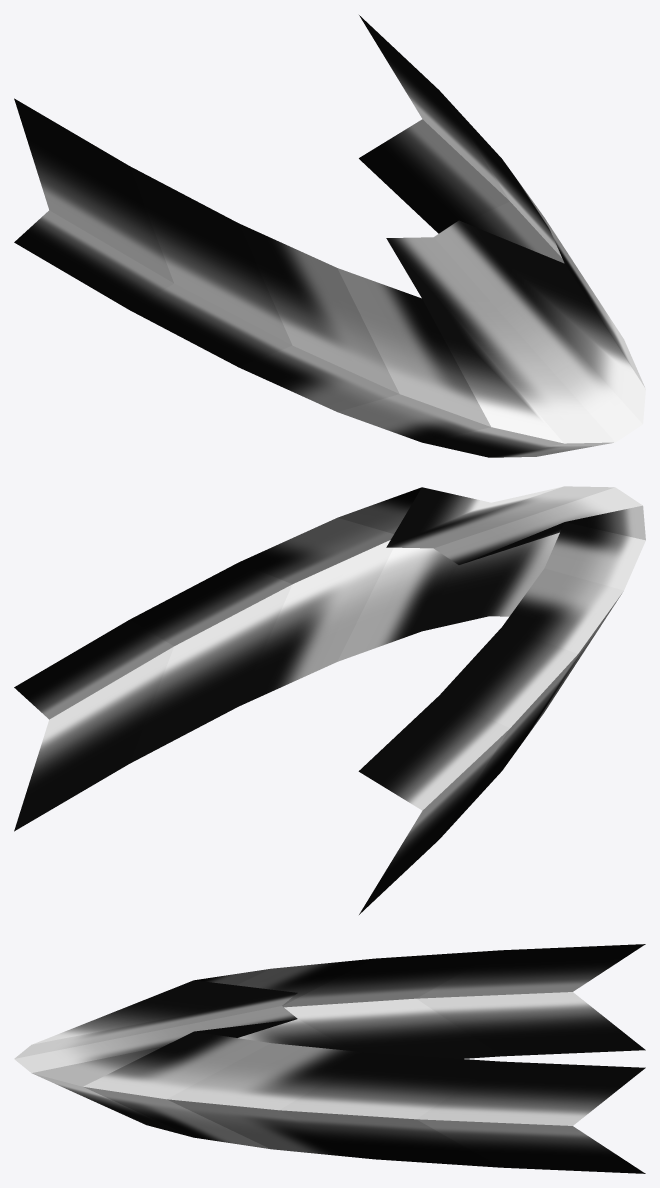
The model's file is WindSlashMeshandtexture1.fbx.
3 views of the same model, one above another, from view 1: azimuth 30°, elevation 25°; view 2: azimuth 150°, elevation 25°; view 3: azimuth 270°, elevation 25° (orthographic). The views are drawn at different scales.
Visible parts, largest first — view 1: Cylinder; view 2: Cylinder; view 3: Cylinder.
Boxes of the visible parts, left/top/right/bottom form: Cylinder: left=14, top=15, right=645, bottom=457; Cylinder: left=14, top=486, right=645, bottom=914; Cylinder: left=14, top=944, right=645, bottom=1173.
Size of the model in its own units: 37.97 by 75.64 by 14.02.
